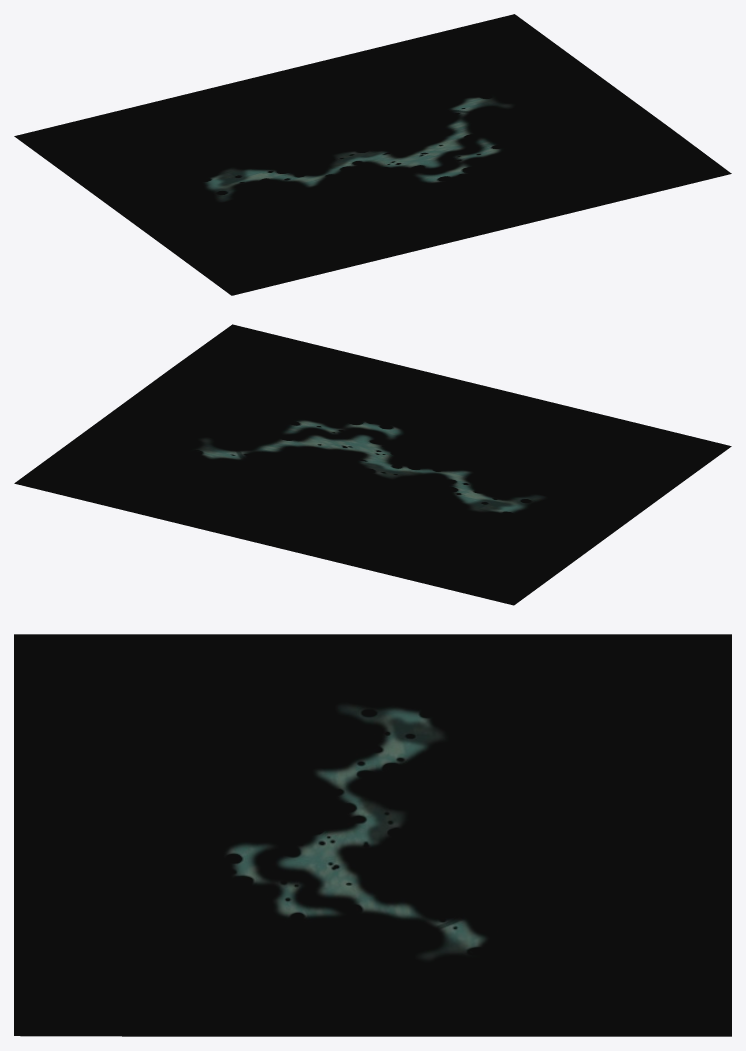
File: pir_m_are_swm_c_water.fbx
The picture shows the model from 3 angles, top to bottom: view 1: azimuth 30°, elevation 25°; view 2: azimuth 150°, elevation 25°; view 3: azimuth 270°, elevation 25°; orthographic projection. The views are drawn at different scales.
Parts seen in each view (by area): view 1: swampC_water; view 2: swampC_water; view 3: swampC_water.
Boxes of the visible parts, <box> form: swampC_water: <box>14,14,731,295</box>; swampC_water: <box>14,324,731,605</box>; swampC_water: <box>14,634,731,1036</box>.
Bounding box in the file's own units: 149393 × 0.0183 × 112597.
1 material, 1 textured.
